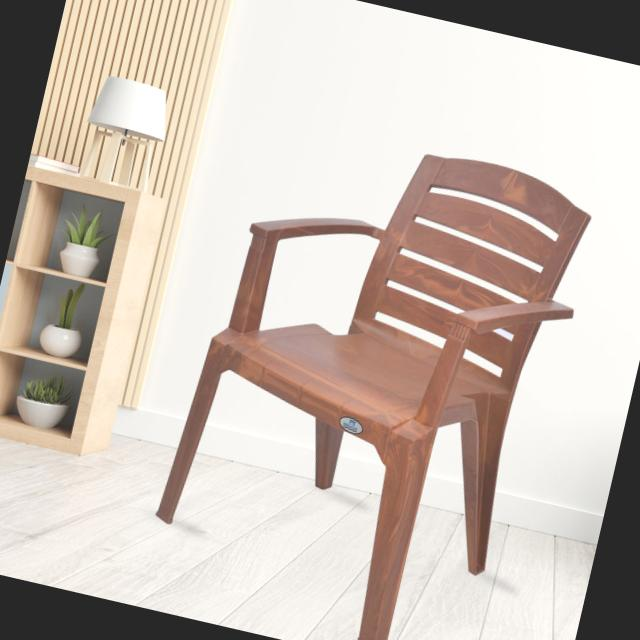obstacle: (122, 41, 617, 640)
